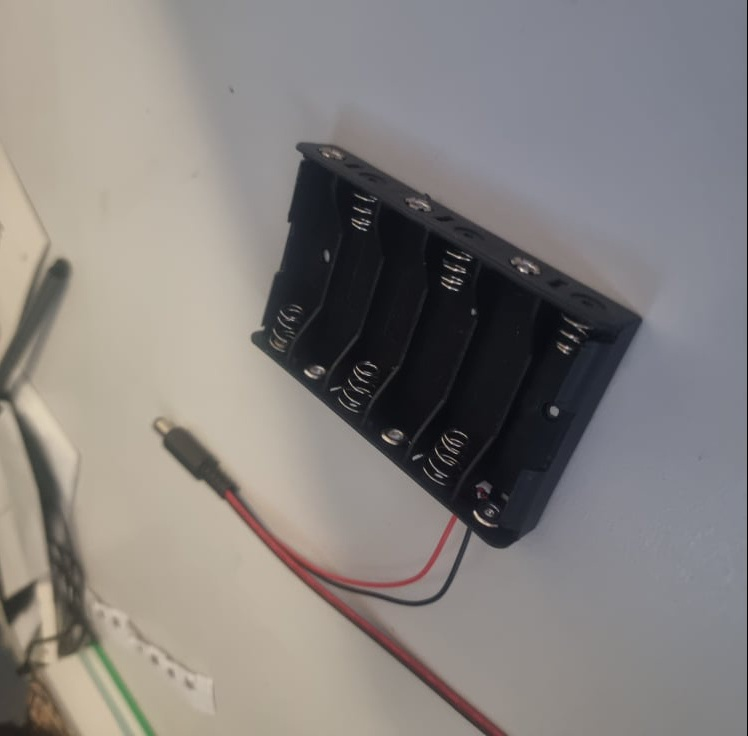BATTERY BOX: (251, 144, 647, 551)
